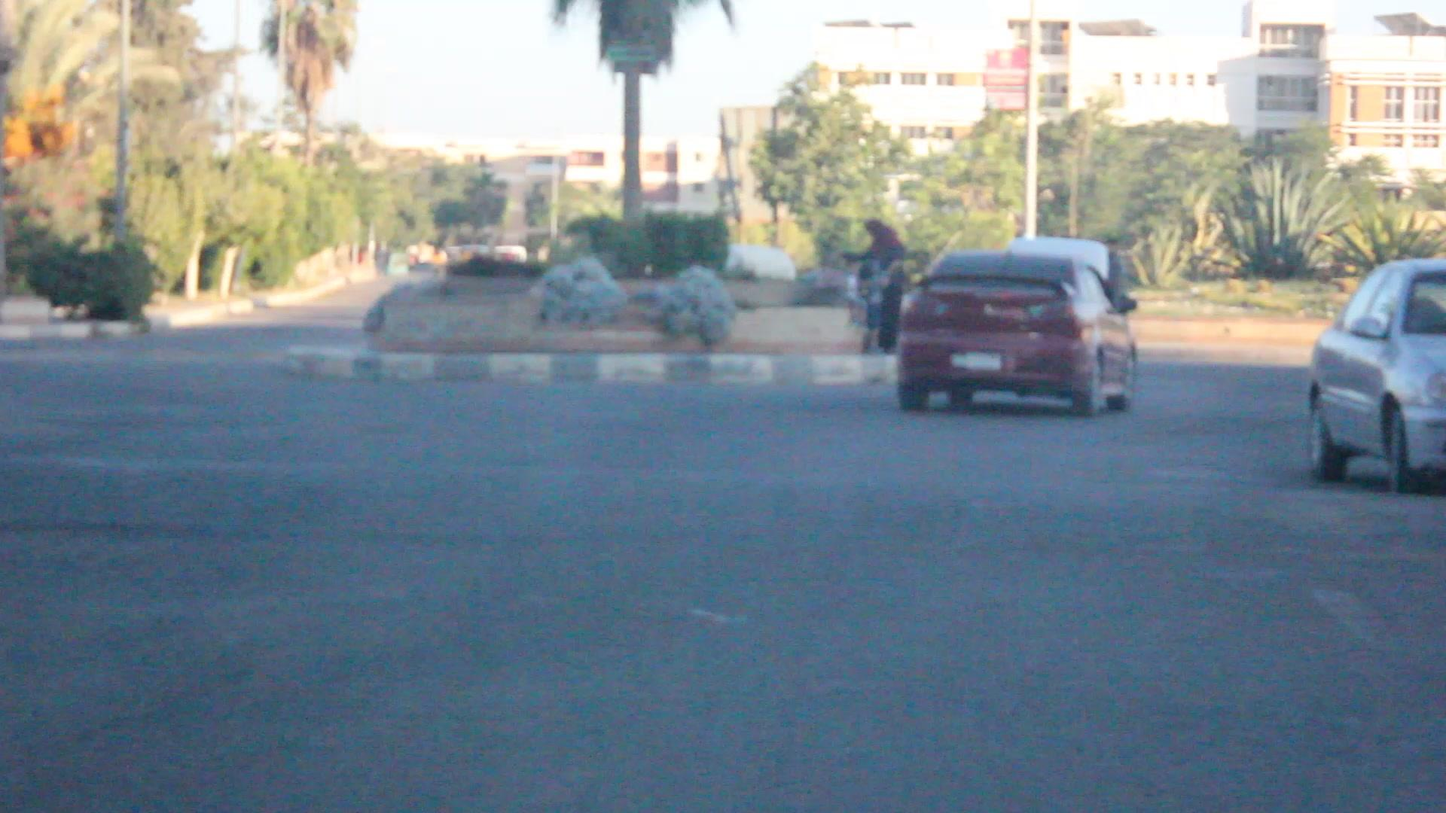Bump: (0, 452, 1446, 565)
